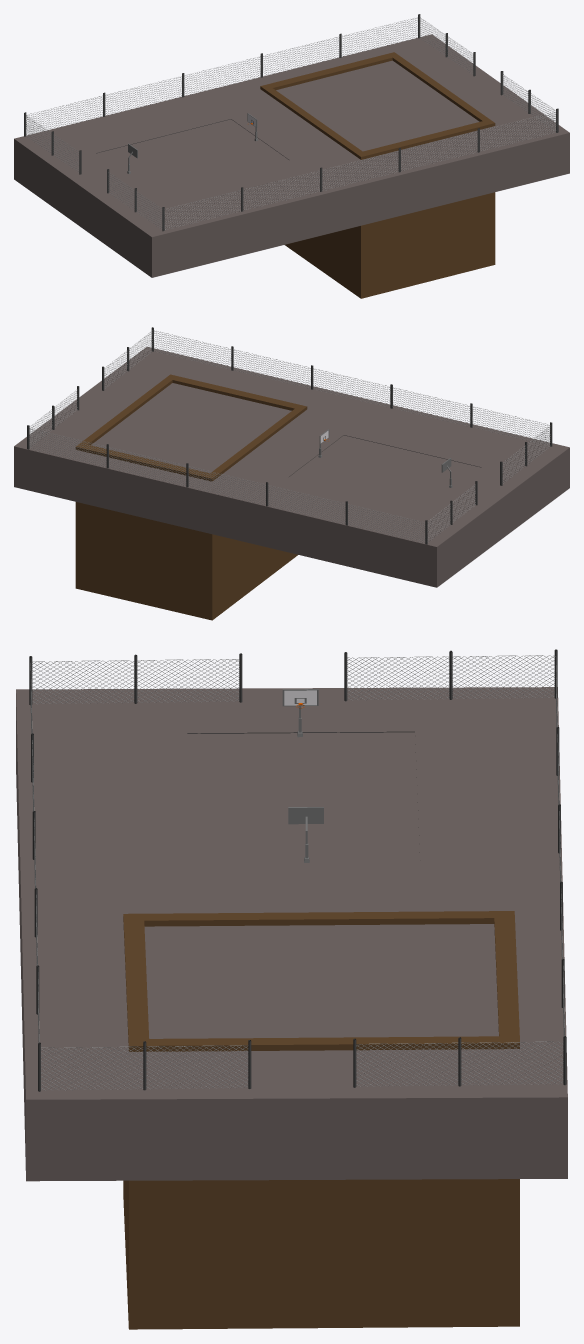
File: playground_compressed.glb
3 views of the same model, one above another, from view 1: azimuth 30°, elevation 25°; view 2: azimuth 150°, elevation 25°; view 3: azimuth 270°, elevation 25° (orthographic). The views are drawn at different scales.
Visible parts, largest first — view 1: Cube.937, Cube.985, Plane.045, Cylinder.150; view 2: Cube.937, Cube.985, Plane.045, Cylinder.150; view 3: Cube.937, Cube.985, Plane.045, Cylinder.150, Cube.928.
Boxes of the visible parts, bbox=[...] form: Cube.937: bbox=[14, 34, 569, 277]; Cube.985: bbox=[260, 52, 495, 298]; Plane.045: bbox=[26, 17, 556, 229]; Cylinder.150: bbox=[24, 14, 558, 231]; Cube.937: bbox=[14, 347, 569, 587]; Cube.985: bbox=[75, 374, 307, 620]; Plane.045: bbox=[29, 330, 550, 542]; Cylinder.150: bbox=[27, 327, 552, 544]; Cube.937: bbox=[16, 687, 567, 1181]; Cube.985: bbox=[123, 911, 519, 1329]; Plane.045: bbox=[30, 655, 564, 1090]; Cylinder.150: bbox=[29, 649, 566, 1091]; Cube.928: bbox=[282, 689, 323, 862].
Size of the model in its own units: 6.78 by 2.52 by 3.83.
